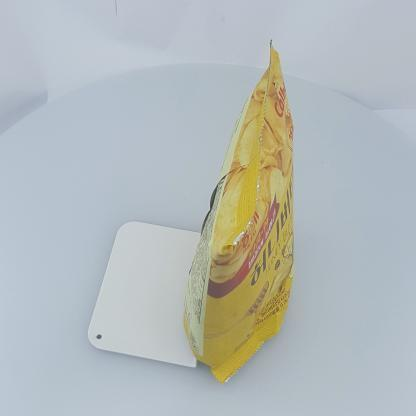Plastic Packaging: (178, 34, 306, 386)
